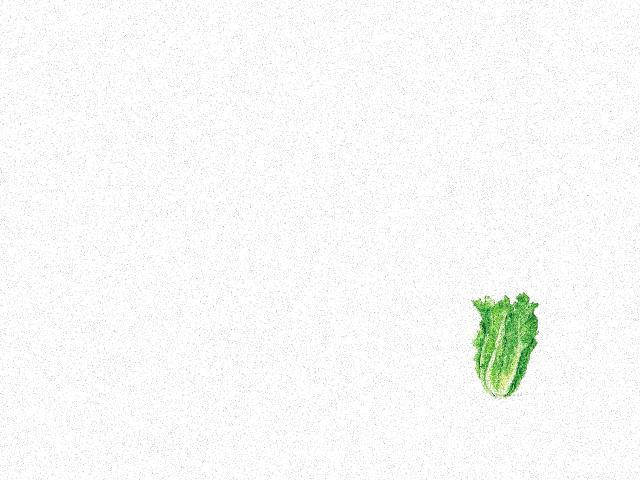lettuce: (469, 292, 539, 396)
